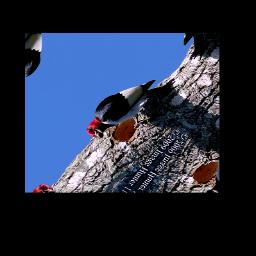Woodpecker: (73, 58, 185, 158)
